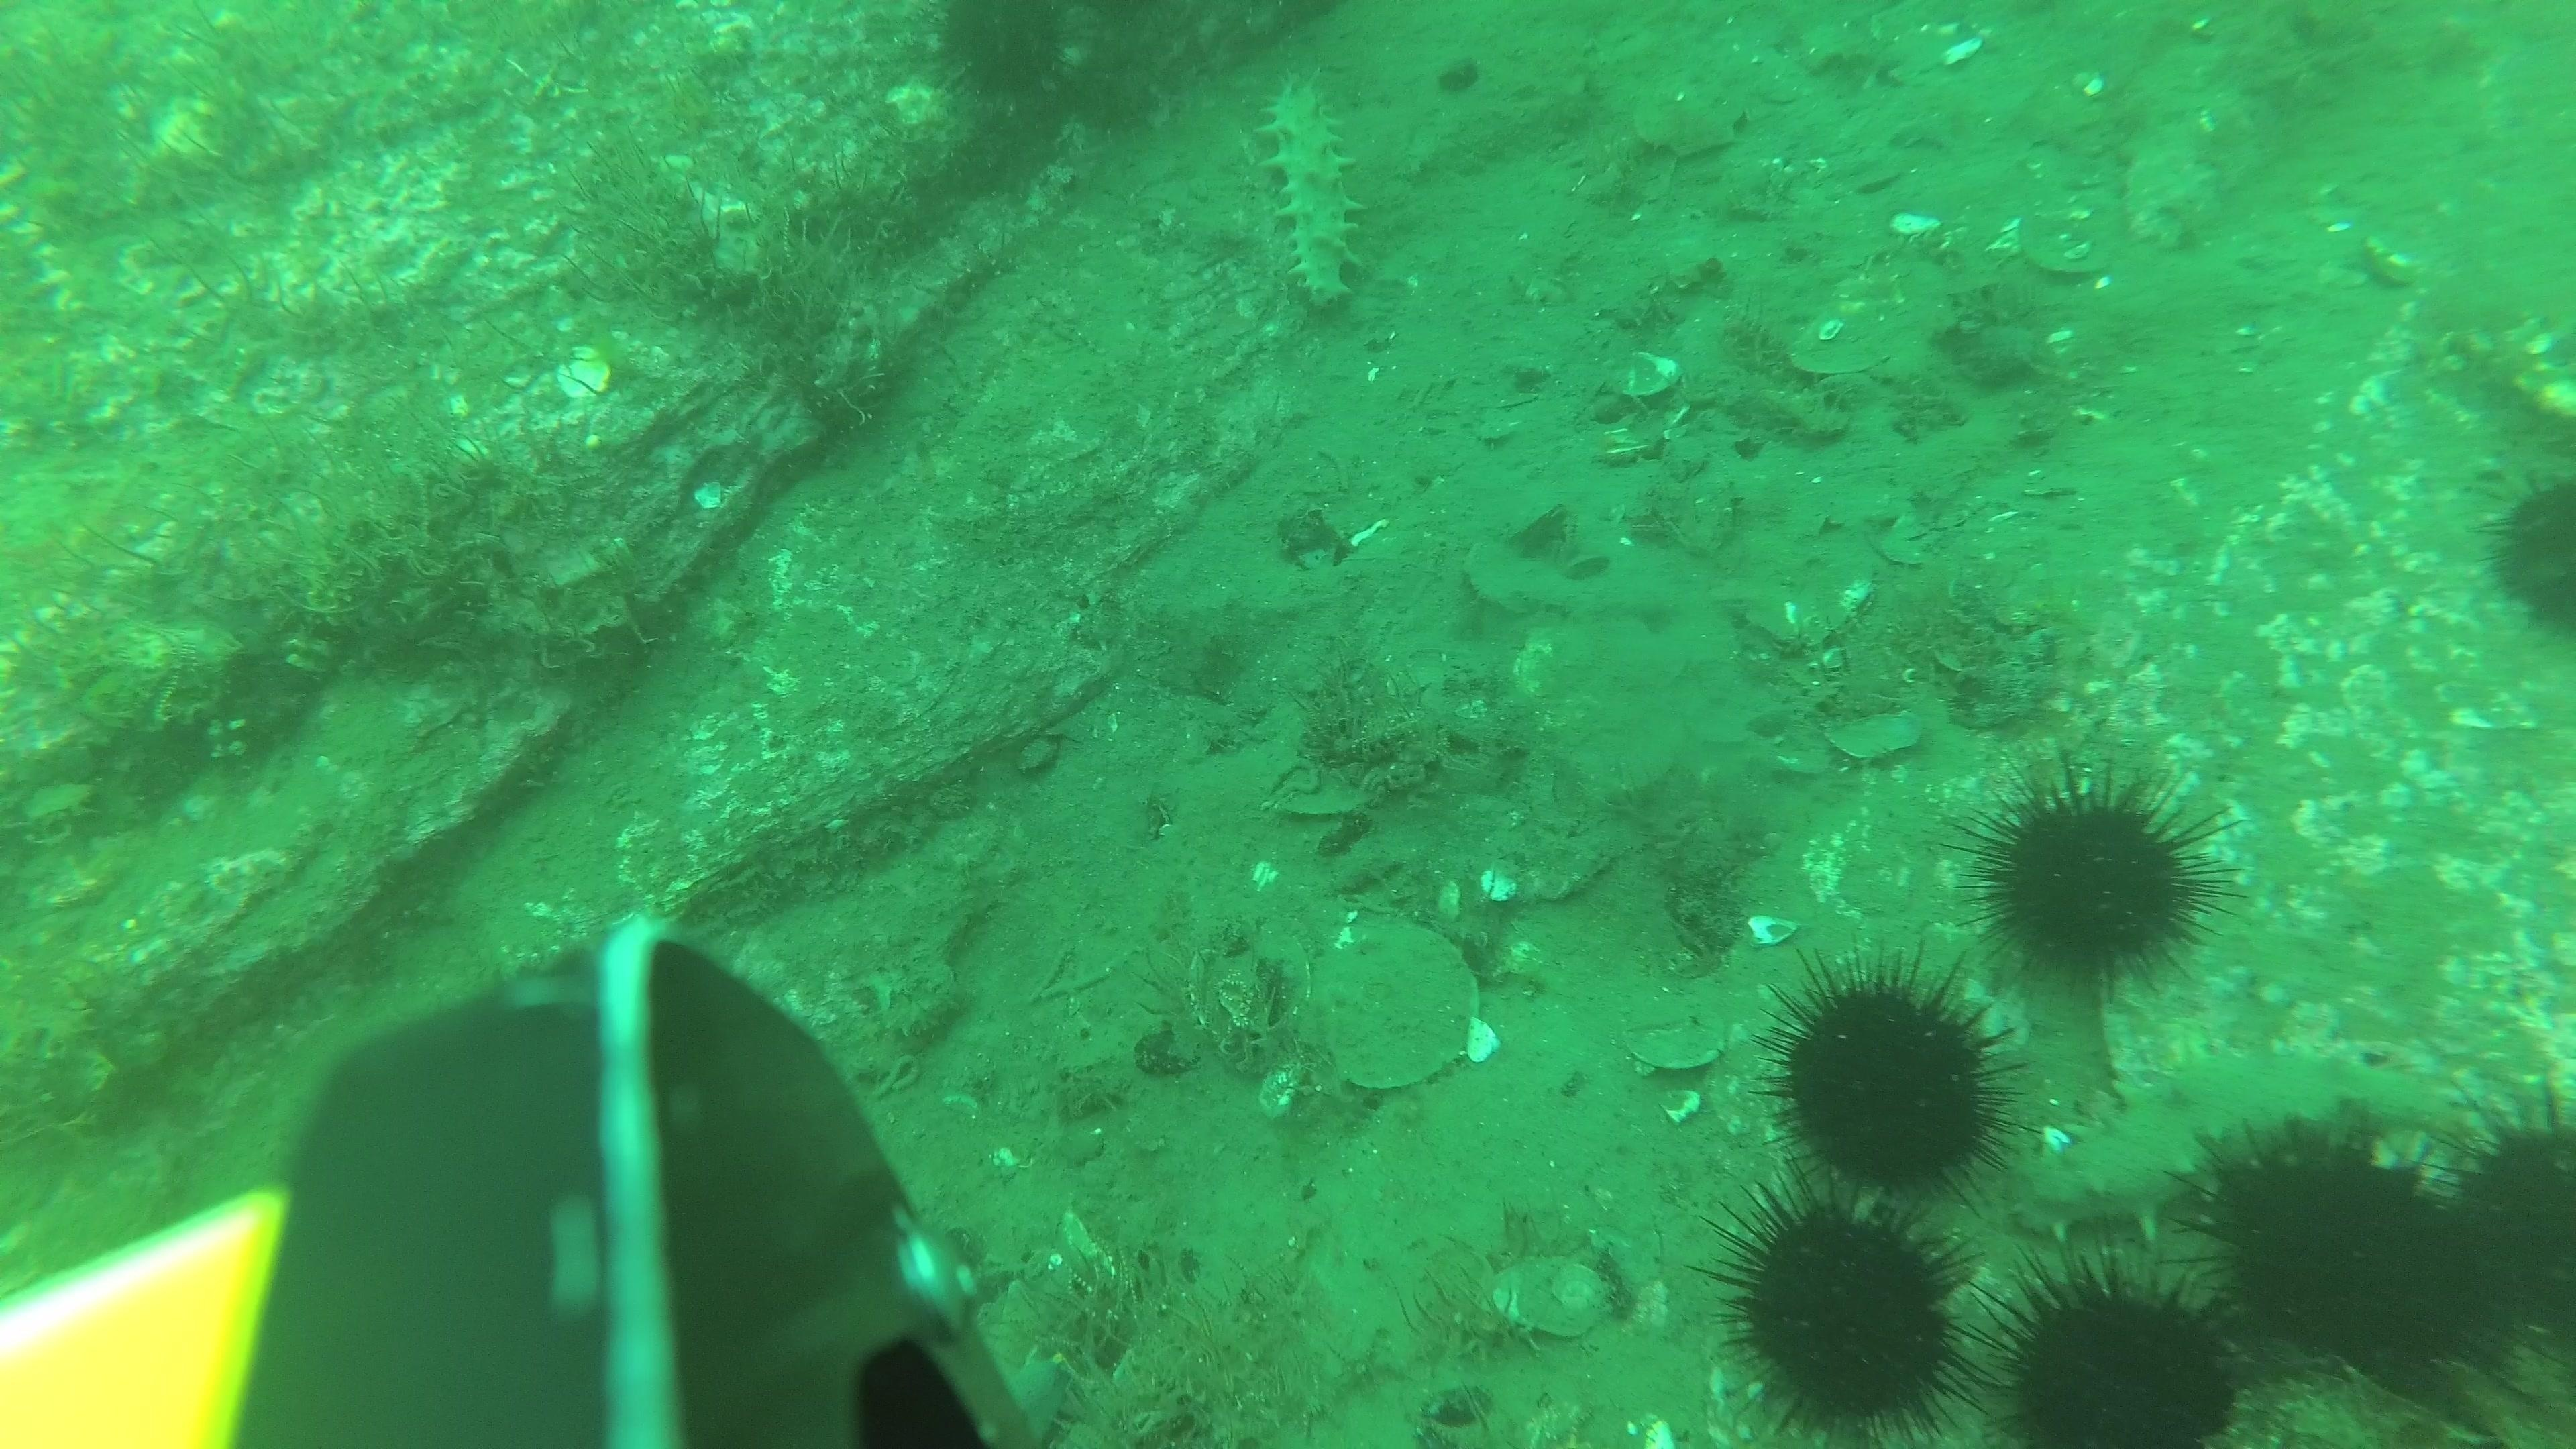echinus: (2169, 1109, 2525, 1419), (1706, 1177, 1985, 1435), (1759, 952, 2022, 1205), (1959, 766, 2233, 996), (1973, 1246, 2258, 1444), (2420, 1079, 2574, 1346), (2480, 465, 2574, 642), (927, 2, 1076, 104)
holothurian: (2020, 1042, 2459, 1242), (1249, 69, 1371, 320)
scallop: (1307, 918, 1484, 1095), (1486, 1249, 1619, 1343), (1628, 88, 1746, 161), (1628, 1008, 1727, 1077)
